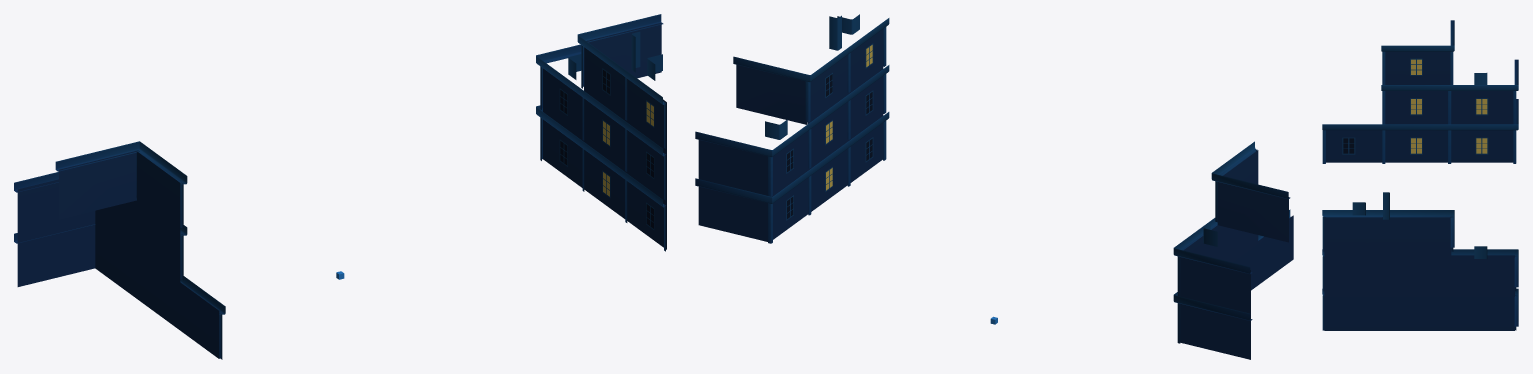
File: FarBackBuilding03Night.fbx
The picture shows the model from 3 angles, left to right: view 1: azimuth 30°, elevation 25°; view 2: azimuth 150°, elevation 25°; view 3: azimuth 270°, elevation 25°; orthographic projection. The views are drawn at different scales.
Parts seen in each view (by area): view 1: FarBackBuilding03Night; view 2: FarBackBuilding03Night; view 3: FarBackBuilding03Night.
Part boxes in pixels (x1,y1,x2,y2): FarBackBuilding03Night: (14,14,666,359); FarBackBuilding03Night: (695,14,1293,359); FarBackBuilding03Night: (1322,20,1518,330).
Size of the model in its own units: 7634 by 2796 by 2783.
